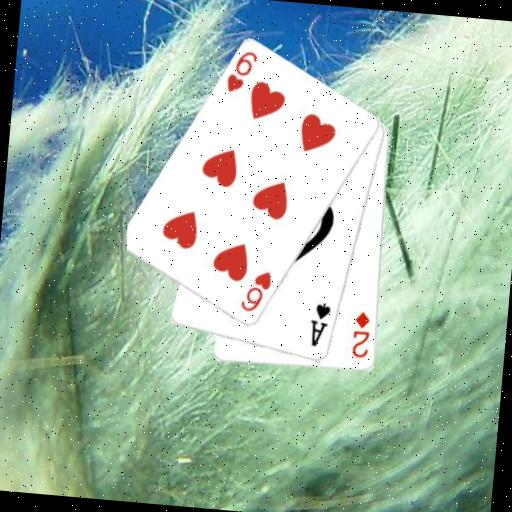2D: (348, 308, 374, 361)
6H: (222, 47, 260, 97), (237, 267, 274, 316)
AS: (306, 300, 334, 351)
